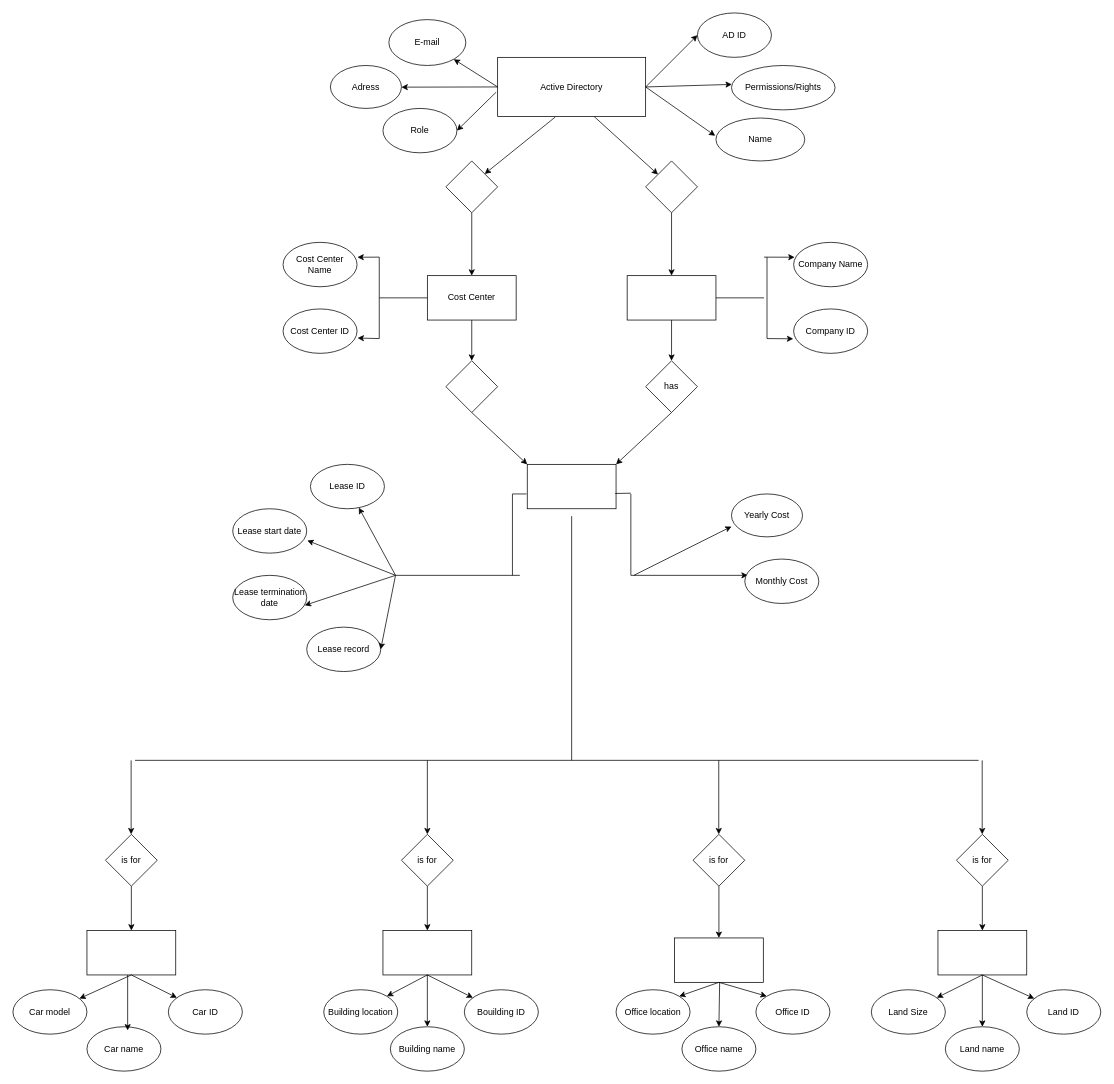
Some shapes in this 1114 by 1084 pixel diagram are drawn without their labels. The shapes that lost their labels are listed below. From the top down, each one's centre as x and y in pixels, then its label:
At point (471, 186): "Is assigned to".
At point (671, 186): "Works for".
At point (671, 297): "Company".
At point (471, 386): "manages".
At point (571, 486): "Leases".
At point (131, 952): "Car".
At point (427, 952): "Building".
At point (718, 959): "Office".
At point (982, 952): "Land".
